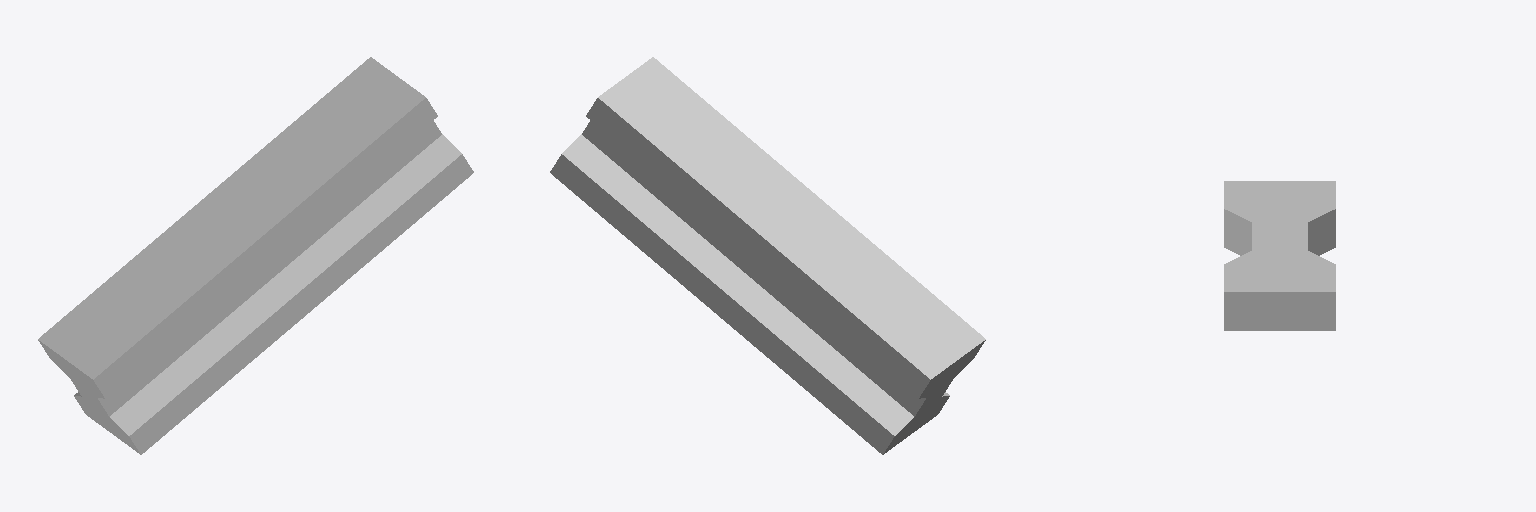
File: -30DegPlatform.obj
3 renders of one model, left to right at view 1: azimuth 30°, elevation 25°; view 2: azimuth 150°, elevation 25°; view 3: azimuth 270°, elevation 25°, orthographic.
Bounding box in the file's own units: 7.93 × 5.73 × 2.